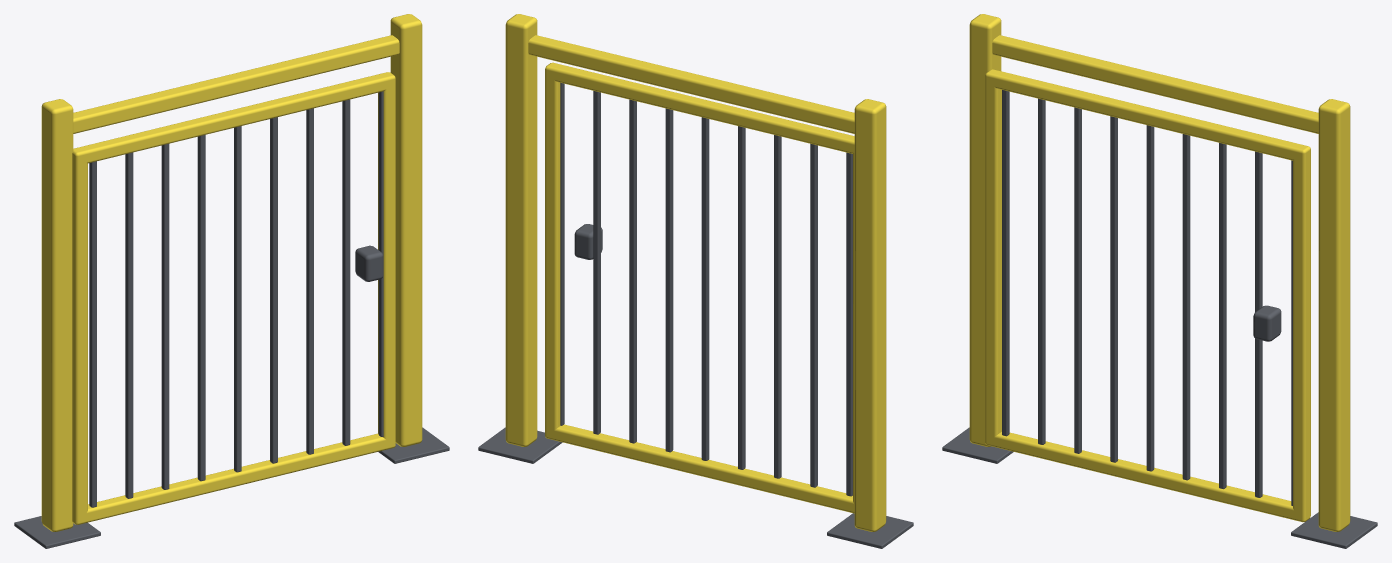
The model's file is robot-fence-gate.glb.
The picture shows the model from 3 angles, left to right: view 1: azimuth 30°, elevation 25°; view 2: azimuth 150°, elevation 25°; view 3: azimuth 330°, elevation 25°; orthographic projection.
Visible parts, largest first — view 1: robot-fence-gate, gate-leaf/dark, gate-leaf/yellow; view 2: robot-fence-gate, gate-leaf/dark, gate-leaf/yellow; view 3: robot-fence-gate, gate-leaf/dark, gate-leaf/yellow.
Part boxes in pixels (x1,y1,x2,y2): robot-fence-gate: (14, 14, 449, 548); gate-leaf/dark: (89, 91, 383, 507); gate-leaf/yellow: (72, 72, 395, 524); robot-fence-gate: (478, 14, 913, 548); gate-leaf/dark: (560, 82, 852, 496); gate-leaf/yellow: (545, 62, 854, 513); robot-fence-gate: (942, 14, 1377, 548); gate-leaf/dark: (1002, 90, 1292, 505); gate-leaf/yellow: (985, 69, 1310, 522).
Bounding box in the file's own units: 2.18 × 2.2 × 0.35.
